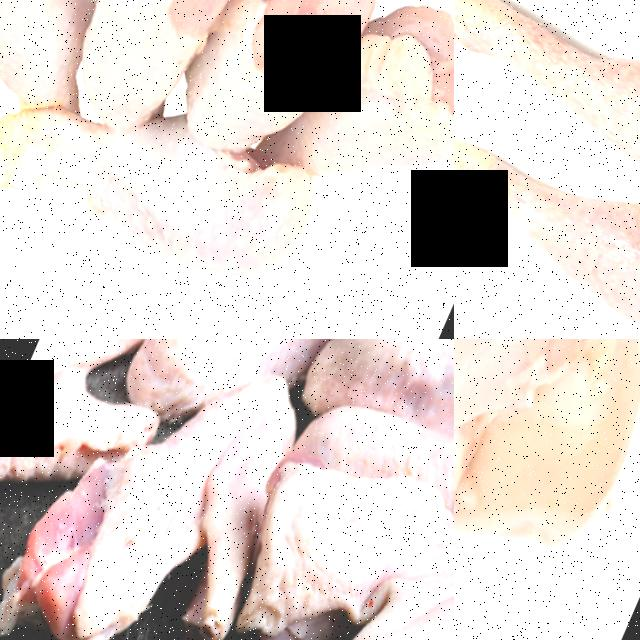chicken breast: (454, 339, 640, 640)
chicken thigh: (0, 64, 325, 315), (454, 0, 640, 242), (454, 105, 640, 339), (177, 0, 389, 181), (293, 0, 454, 235), (52, 0, 268, 145), (454, 0, 640, 132), (0, 0, 124, 105)
chicken wing: (188, 435, 454, 640), (121, 339, 405, 475)
